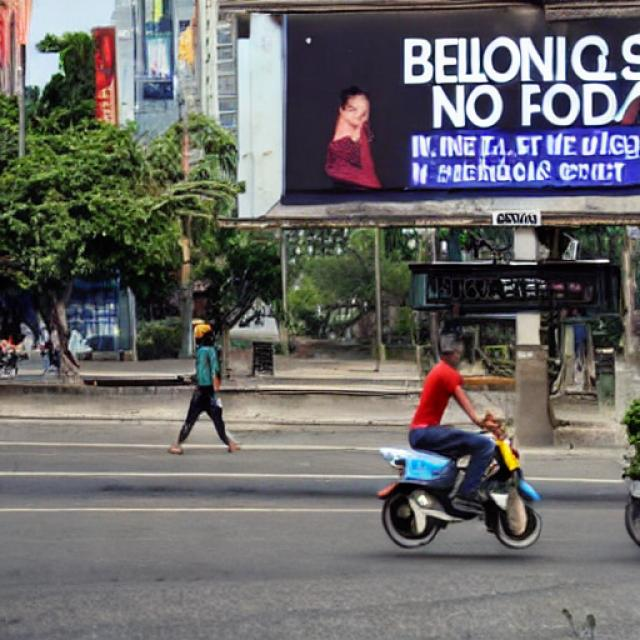Billboard: (238, 1, 640, 223)
